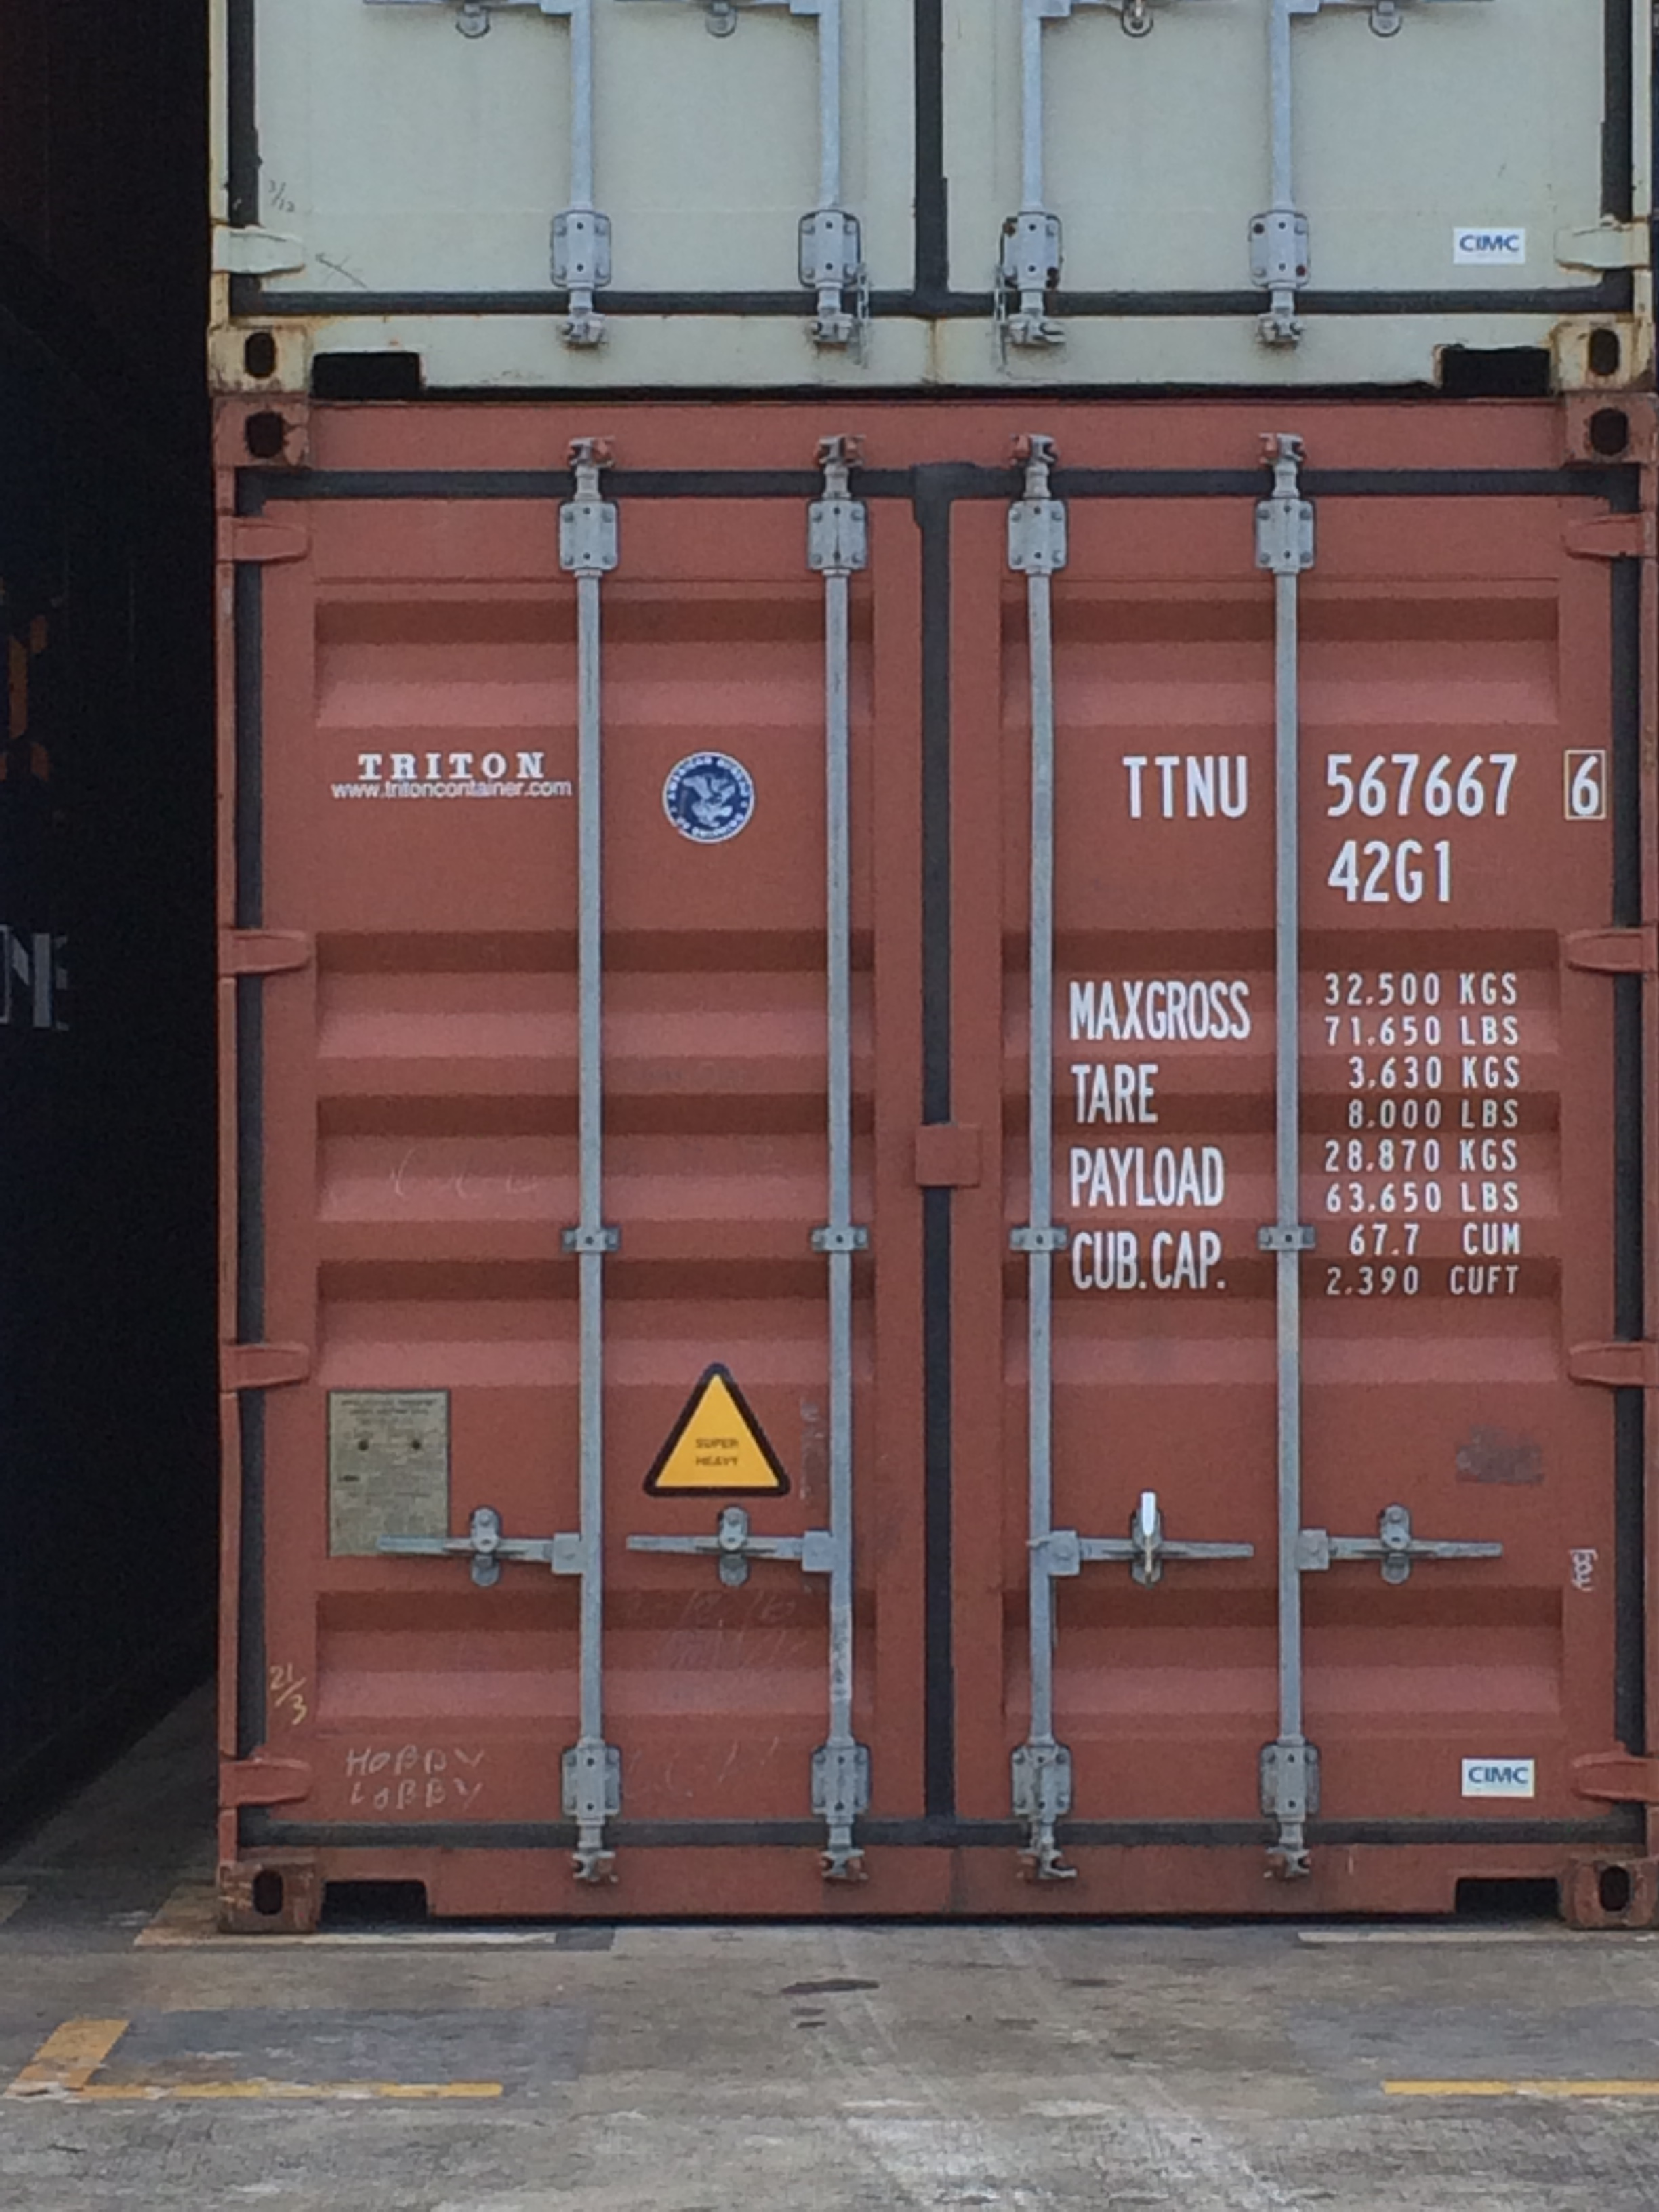container_door: (209, 392, 1659, 1930)
